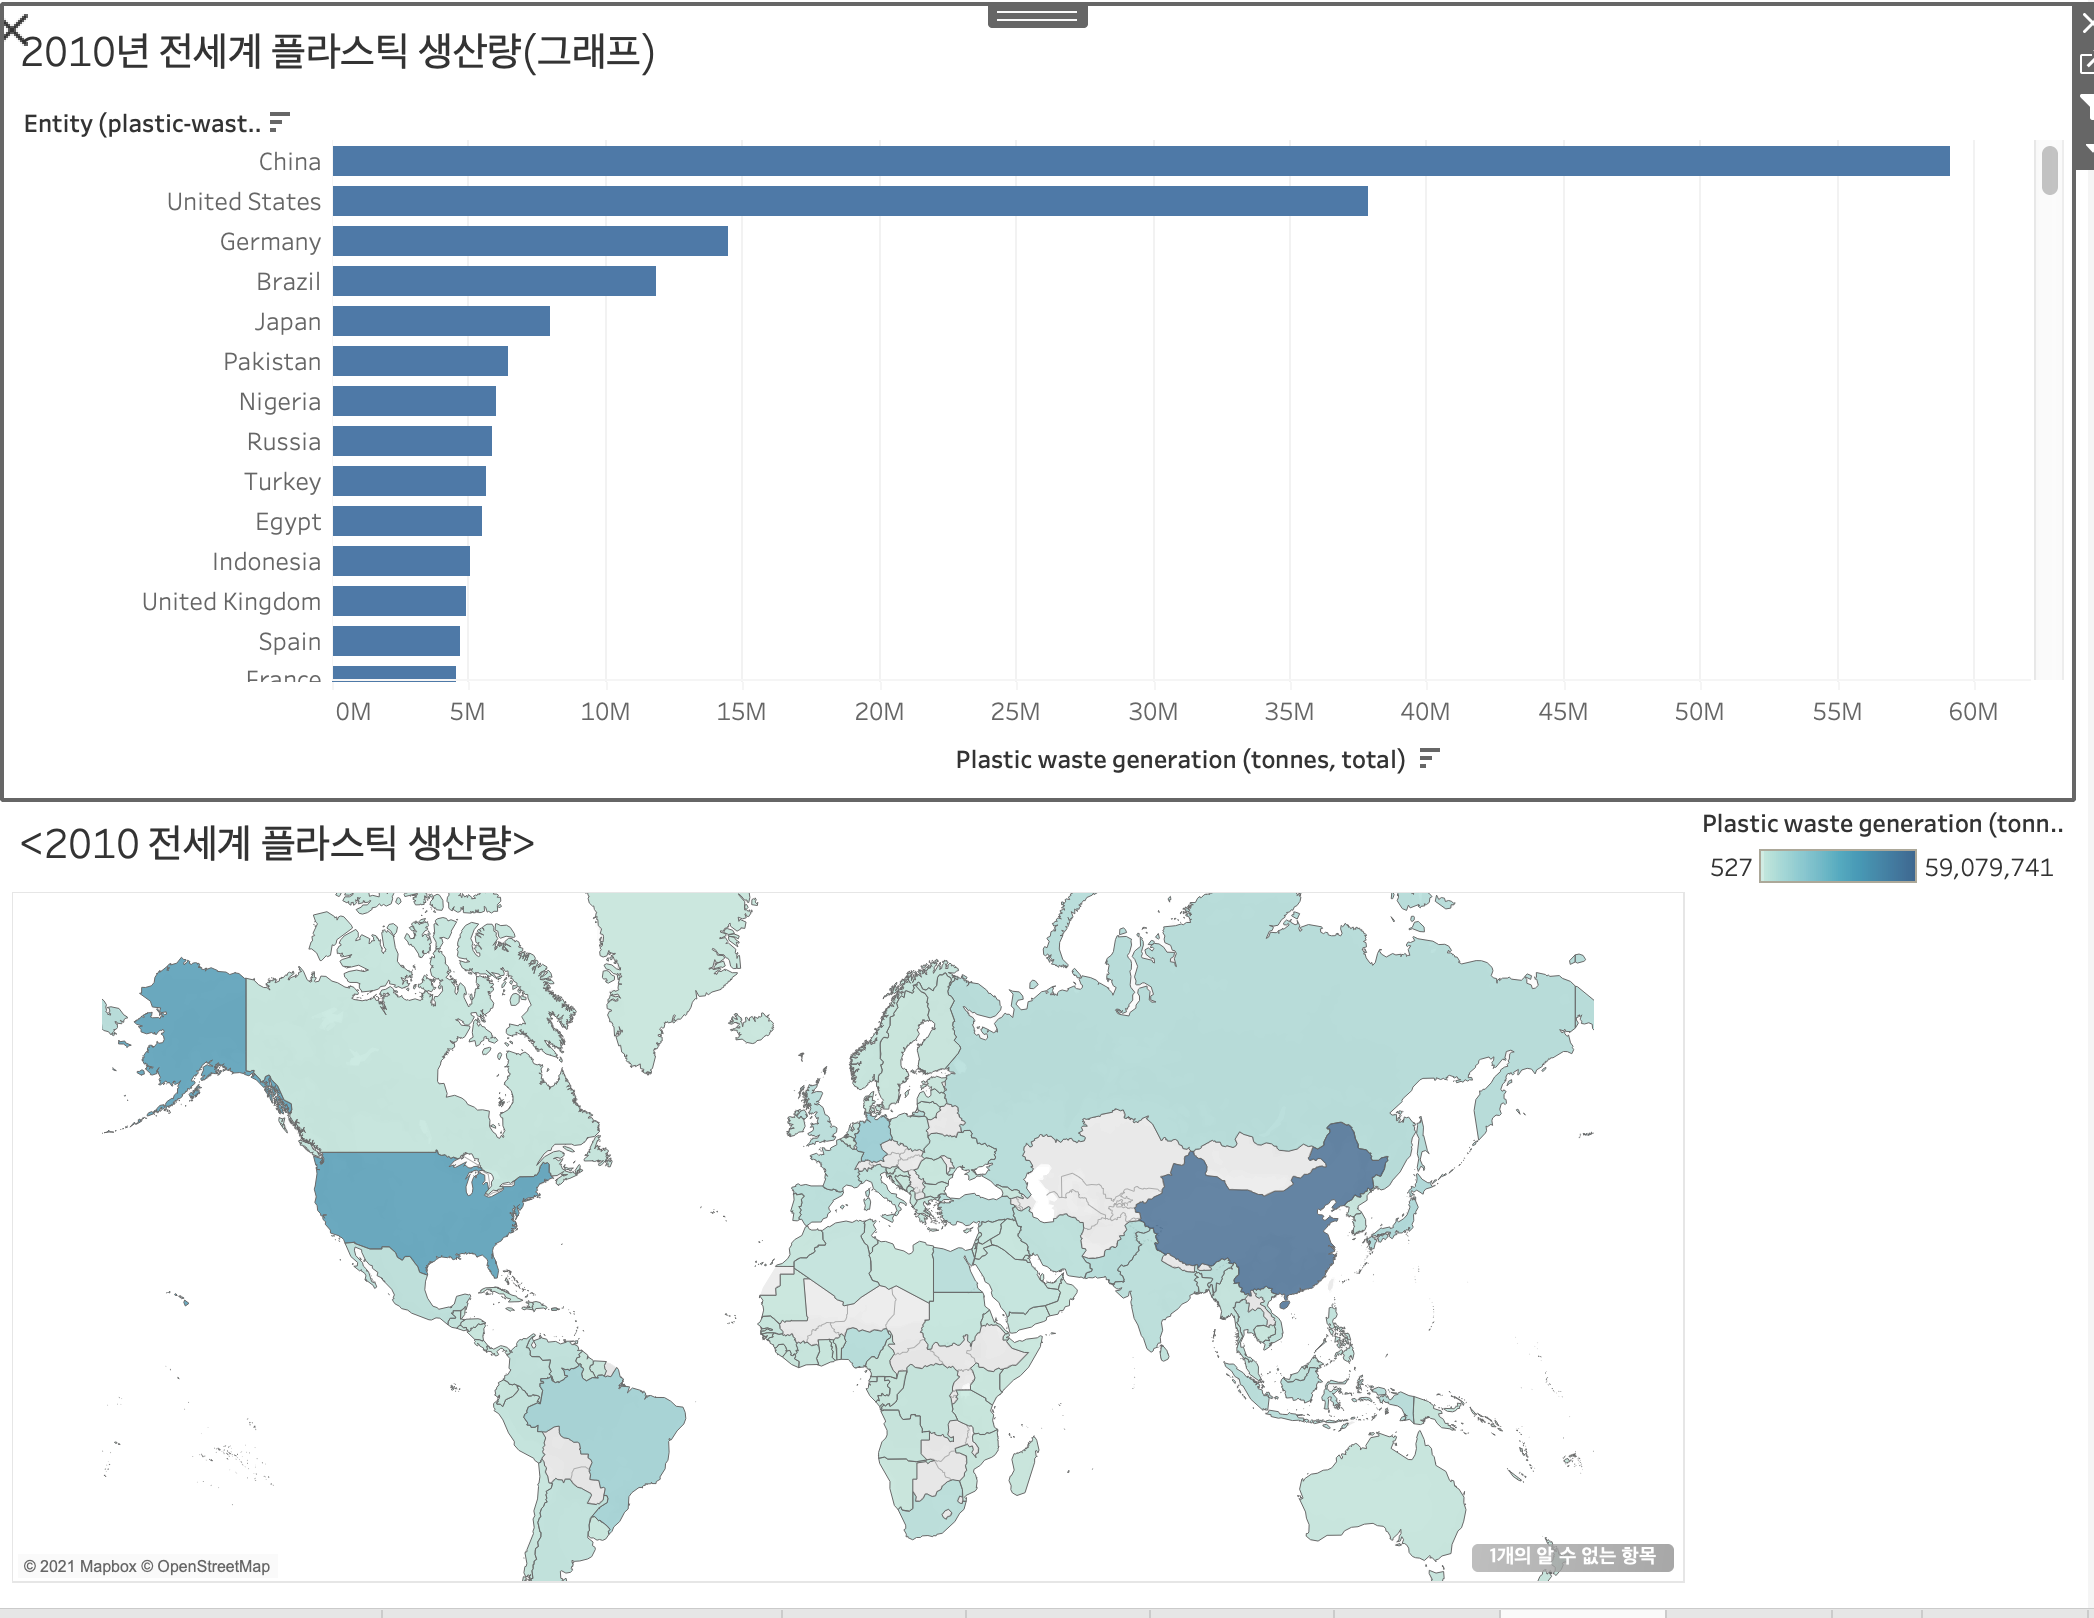

The page's visual inventory and layout, read from the dashboard file:
{"tool":"tableau","page":{"name":"대시보드 3","canvas":[1000,1000],"units":"permille","ordinal":1},"visuals":[{"type":"dashboard-object","box":[0,10.2,22.9,30.5]},{"type":"worksheet","title":"2010년 전세계 플라스틱 생산량(그래프)","mark":"Automatic","rows":["Entity (plastic-waste-generation-total-2010.csv)"],"cols":["Plastic waste generation (tonnes, total)"],"box":[7.6,10.2,984.8,489.8]},{"type":"worksheet","title":"2010 전세계 플라스틱 생산량 (지도)","mark":"Automatic","box":[7.6,500,804.5,489.8]},{"type":"legend","title":"2010 전세계 플라스틱 생산량 (지도)","param":"[federated.07q6bxc1hfdv3q14ziqiv0dctjte].[sum:Plastic waste generation (tonnes, ","box":[812.1,500,180.3,489.8]}]}

Visuals, with their boxes on the dashboard's canvas, which has no fixed pixel size, in thousandths of its width and height (x1, y1, x2, y2). These are canvas units, not pixel positions in the 2094x1618 screenshot, which may show the page scaled, cropped or inside an application window:
dashboard-object: BBox(0, 10, 23, 41)
"2010년 전세계 플라스틱 생산량(그래프)" worksheet: BBox(8, 10, 992, 500)
"2010 전세계 플라스틱 생산량 (지도)" worksheet: BBox(8, 500, 812, 990)
"2010 전세계 플라스틱 생산량 (지도)" legend: BBox(812, 500, 992, 990)
